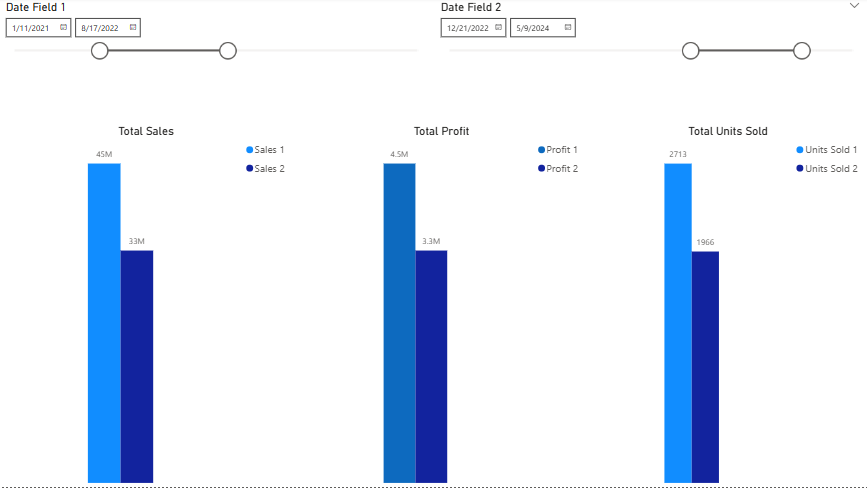

What the dashboard file says about the page in this screenshot:
{"tool":"powerbi","page":{"name":"Comparison","canvas":[1280,720],"ordinal":2},"visuals":[{"type":"slicer","fields":{"Values":["Date Table 1.Date"]},"box":[0,0,640.7,186.6],"z":0},{"type":"slicer","fields":{"Values":["Date Table 2.Date"]},"box":[639.2,0,640.7,186.6],"z":1000},{"type":"clusteredColumnChart","title":"Total Sales","fields":{"Y":["Sum(Fact Table.Net Sales)","Date Table 1.Sum of Net Sales"]},"box":[0,186.6,437.9,533.4],"z":2000},{"type":"clusteredColumnChart","title":"Total Profit","fields":{"Y":["Sum(Fact Table.Profit)","Measures Table.Sum of Profit"]},"box":[437.9,186.6,430.5,533.4],"z":3000},{"type":"clusteredColumnChart","title":"Total Units Sold","fields":{"Y":["Sum(Fact Table.Units Sold)","Measures Table.Sum of Units Sold"]},"box":[868.4,186.6,411.4,533.4],"z":4000}]}

Visuals, with their boxes in screenshot pixels (x1, y1, x2, y2), scaled from the page's 1280x720 canvas onto the 867x488 screenshot:
slicer - Date Table 1.Date: [x1=0, y1=0, x2=434, y2=126]
slicer - Date Table 2.Date: [x1=433, y1=0, x2=866, y2=126]
"Total Sales" clusteredColumnChart: [x1=0, y1=126, x2=297, y2=487]
"Total Profit" clusteredColumnChart: [x1=297, y1=126, x2=588, y2=487]
"Total Units Sold" clusteredColumnChart: [x1=588, y1=126, x2=866, y2=487]
